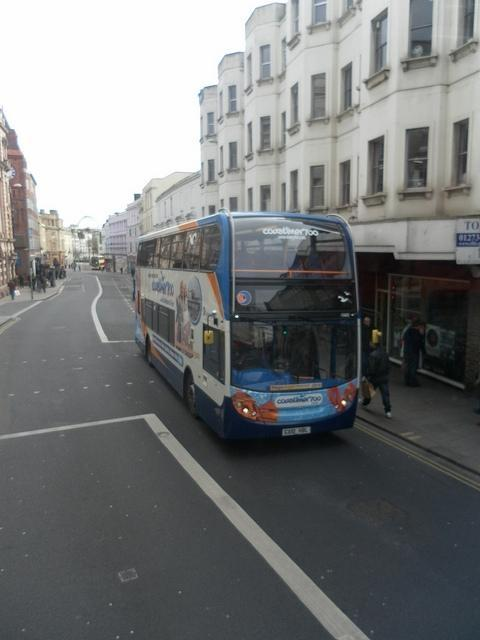bus: (132, 207, 362, 440)
